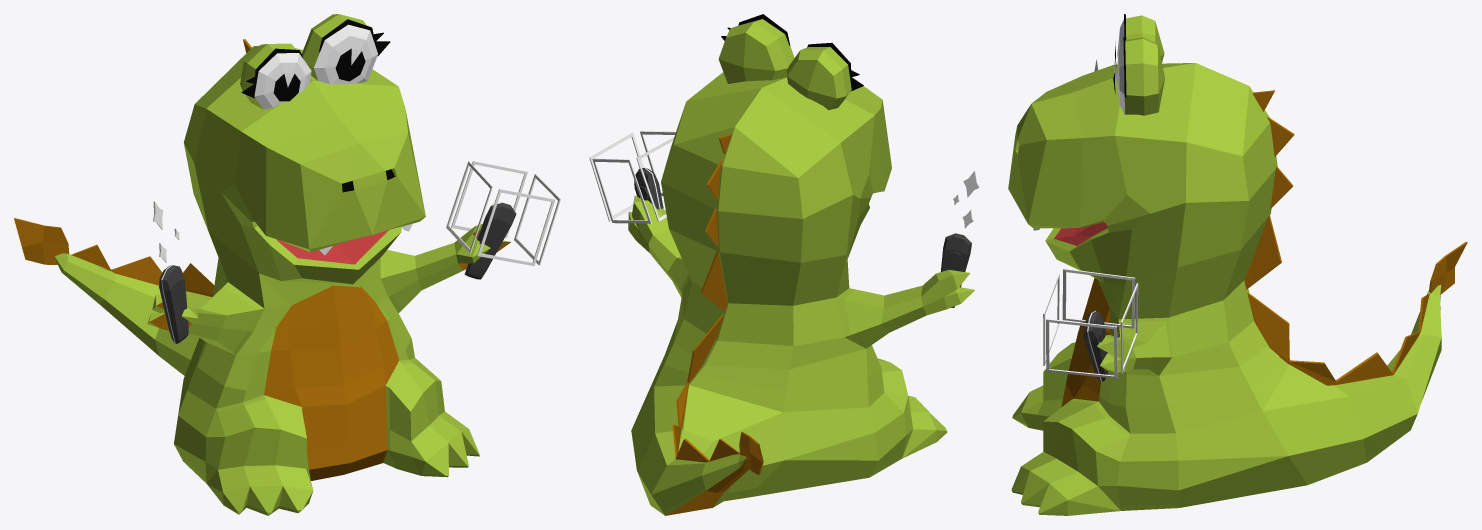
Rendered from Tiltload.glb.
3 renders of one model, left to right at view 1: azimuth 30°, elevation 25°; view 2: azimuth 150°, elevation 25°; view 3: azimuth 270°, elevation 25°, orthographic. The views are drawn at different scales.
Parts seen in each view (by area): view 1: Highlowpoly_dino Highpoly_lowpoly, Highpoly_lowpoly HighlowpolyControlers, Highpoly_lowpoly HighlowpolyEyes; view 2: Highlowpoly_dino Highpoly_lowpoly, Highpoly_lowpoly HighlowpolyControlers; view 3: Highlowpoly_dino Highpoly_lowpoly, Highpoly_lowpoly HighlowpolyControlers.
Part boxes in pixels (box(x1,y1,x2,y2)): Highlowpoly_dino Highpoly_lowpoly: box(55, 14, 510, 515); Highpoly_lowpoly HighlowpolyControlers: box(14, 19, 560, 343); Highpoly_lowpoly HighlowpolyEyes: box(273, 48, 365, 101); Highlowpoly_dino Highpoly_lowpoly: box(628, 19, 974, 515); Highpoly_lowpoly HighlowpolyControlers: box(589, 14, 979, 474); Highlowpoly_dino Highpoly_lowpoly: box(1008, 15, 1441, 515); Highpoly_lowpoly HighlowpolyControlers: box(1043, 14, 1467, 385).
Size of the model in its own units: 2.6 by 2.7 by 2.59.
